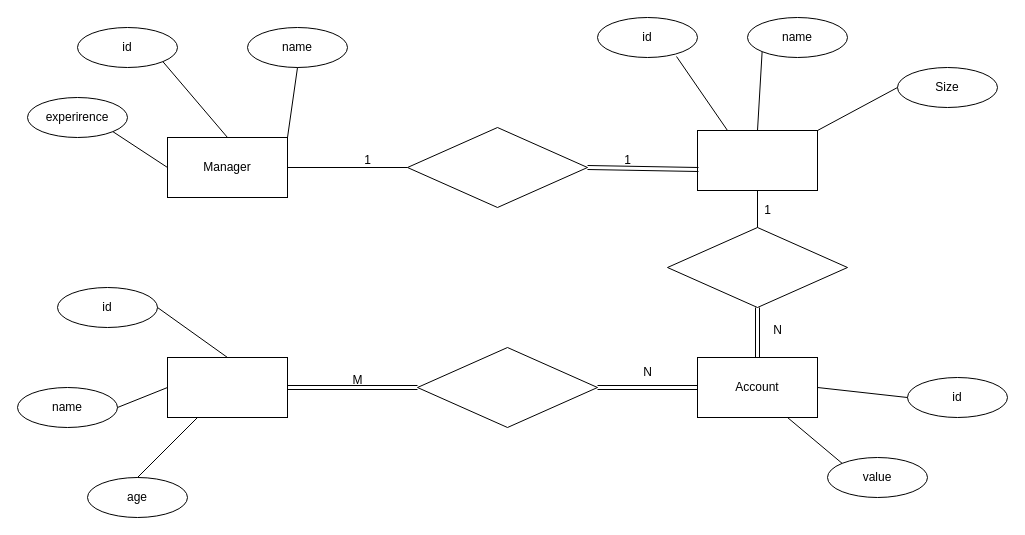
The diagram is 1025 pixels wide and 535 high, and some of its shapes have lost their labels. The box of each missing label's shape, as (x1, y1, x2, y2) in pixels:
Branch: (696, 130, 818, 190)
Customer: (166, 356, 288, 418)
Has: (666, 226, 848, 308)
Manages: (406, 126, 588, 208)
Owns: (416, 346, 598, 428)
